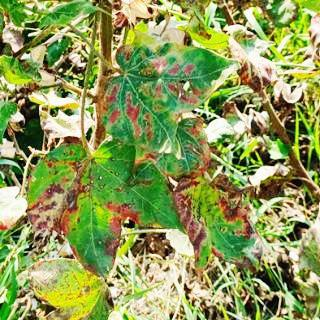blight: (24, 27, 247, 291)
